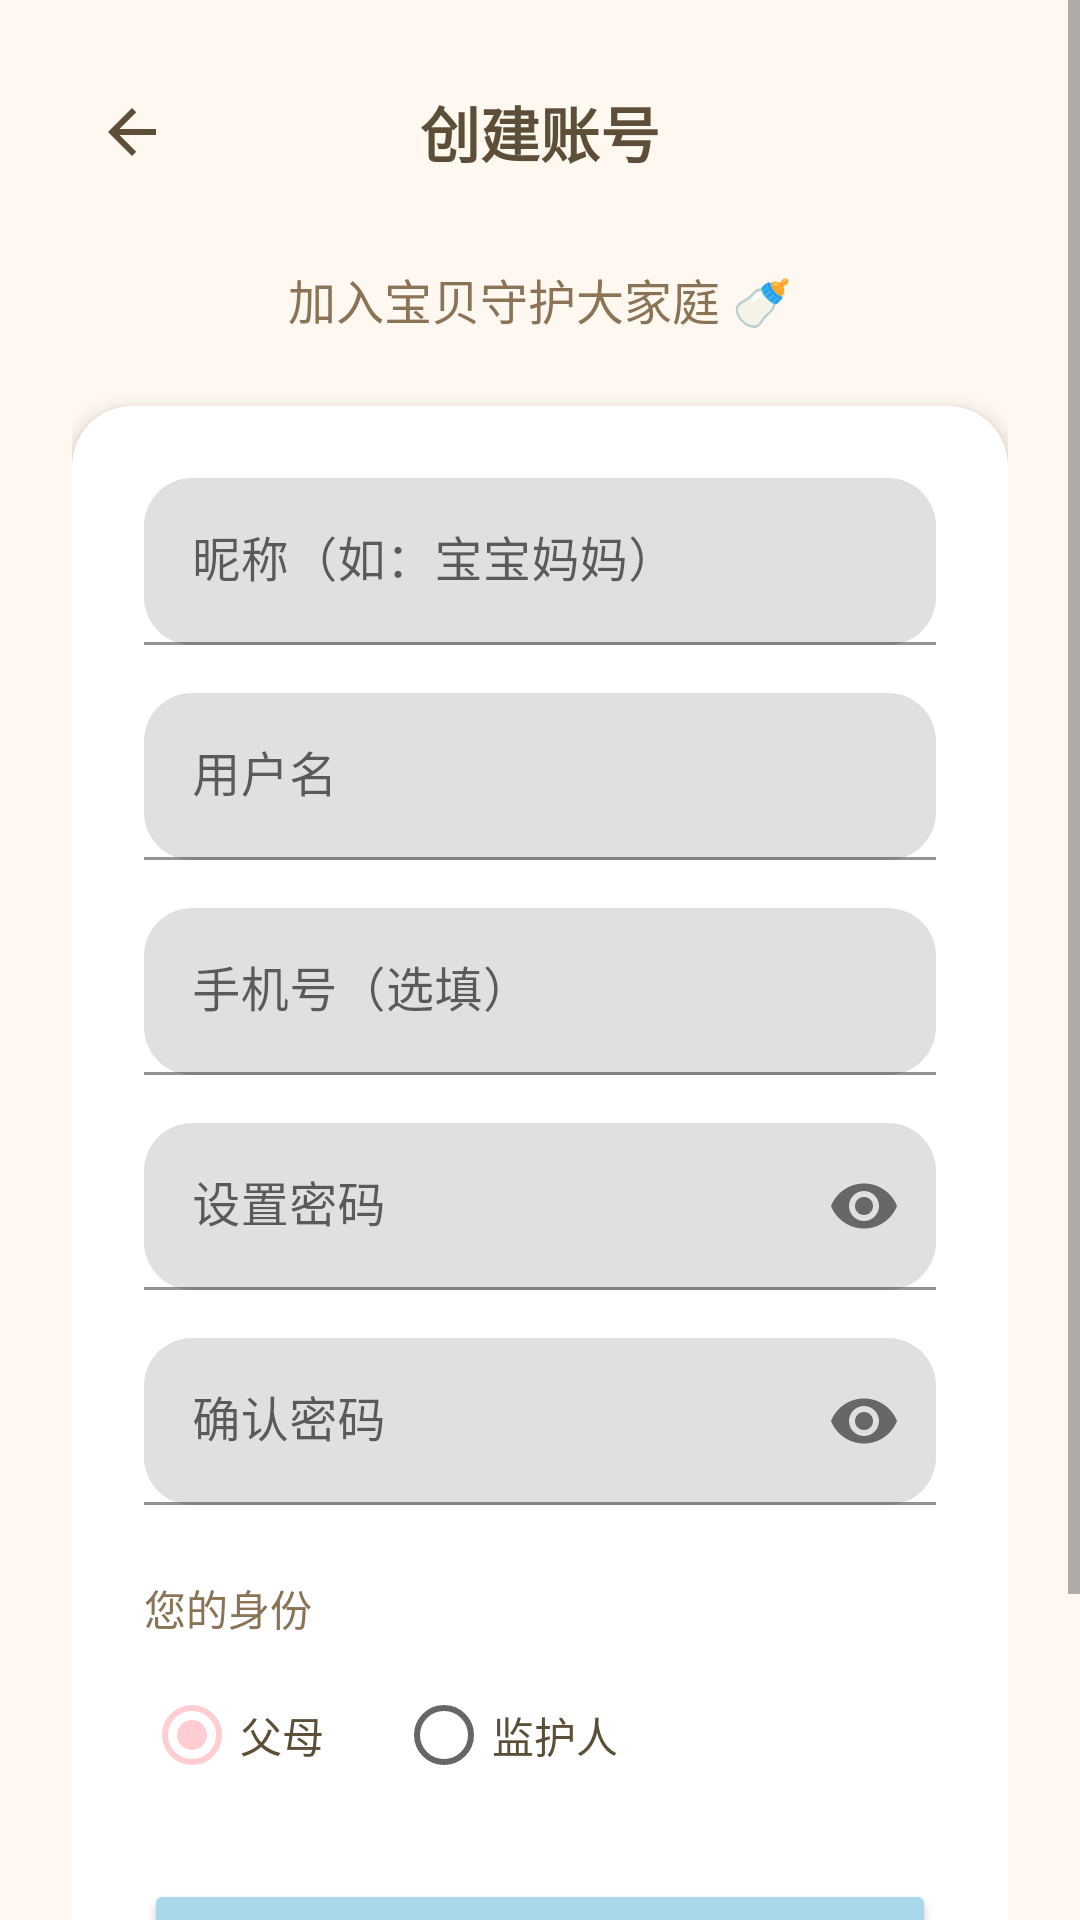

Screen size 1080×1920. Icon name, then its box in pixels as (x1, y1, x2, y2):
返回: (108, 108, 156, 156)
